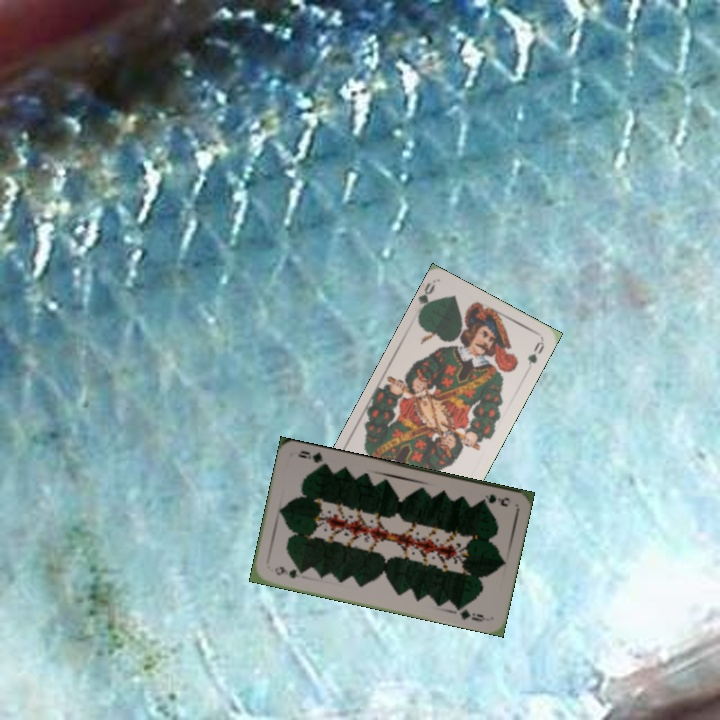G9: (477, 490, 512, 509), (271, 563, 307, 581)
GO: (414, 280, 438, 318)
